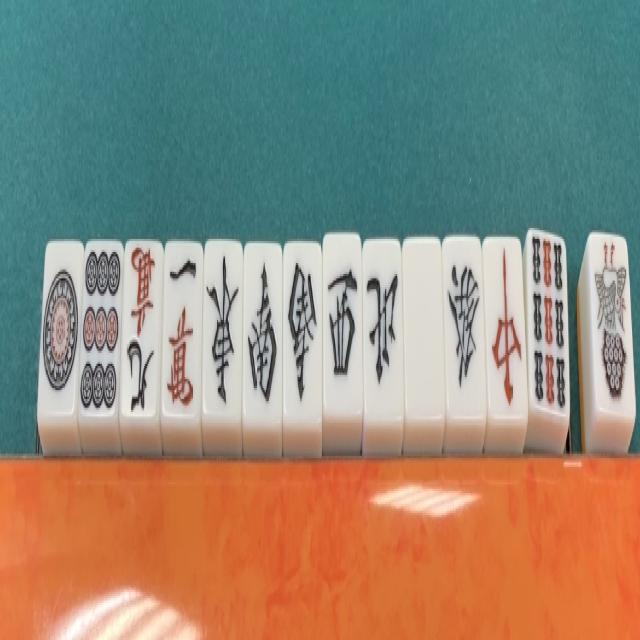bamboos_1: (584, 219, 637, 421)
bamboos_9: (529, 228, 568, 434)
characters_1: (162, 234, 201, 452)
characters_9: (118, 237, 166, 427)
circles_1: (37, 233, 83, 417)
circles_9: (81, 230, 118, 408)
east: (201, 228, 241, 427)
green: (448, 226, 487, 430)
north: (360, 208, 400, 428)
red: (482, 217, 528, 416)
south: (239, 234, 283, 438), (280, 239, 318, 429)
west: (319, 195, 363, 423)
white: (402, 197, 446, 425)
